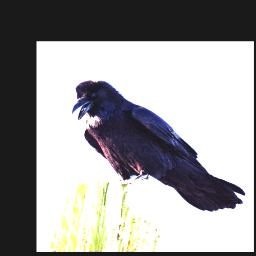Crow: (72, 80, 246, 212)
